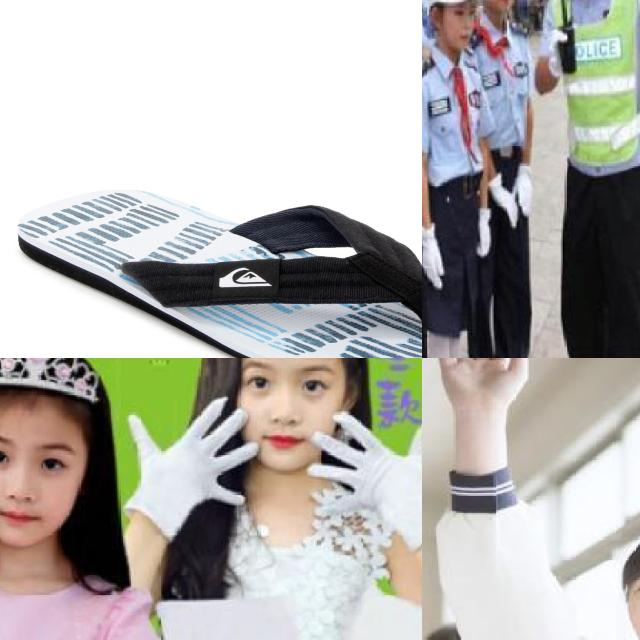No_Glasses: (0, 426, 84, 488), (243, 358, 338, 407)
Sandals: (15, 186, 422, 358)
face_nomask: (229, 358, 360, 464), (0, 409, 89, 550), (440, 5, 480, 51), (486, 0, 523, 16)
hand_glove: (122, 388, 263, 522), (307, 406, 422, 526), (548, 23, 582, 82), (422, 235, 447, 291), (490, 182, 520, 228), (514, 163, 536, 216), (475, 213, 492, 260)
hand_noglove: (433, 358, 533, 422)
head_nohelmet: (0, 358, 112, 421), (605, 513, 640, 579)
person: (147, 358, 422, 640), (427, 358, 640, 640), (0, 358, 166, 640), (530, 0, 640, 358), (464, 0, 545, 358), (422, 0, 495, 358)
vest: (541, 0, 640, 176)
